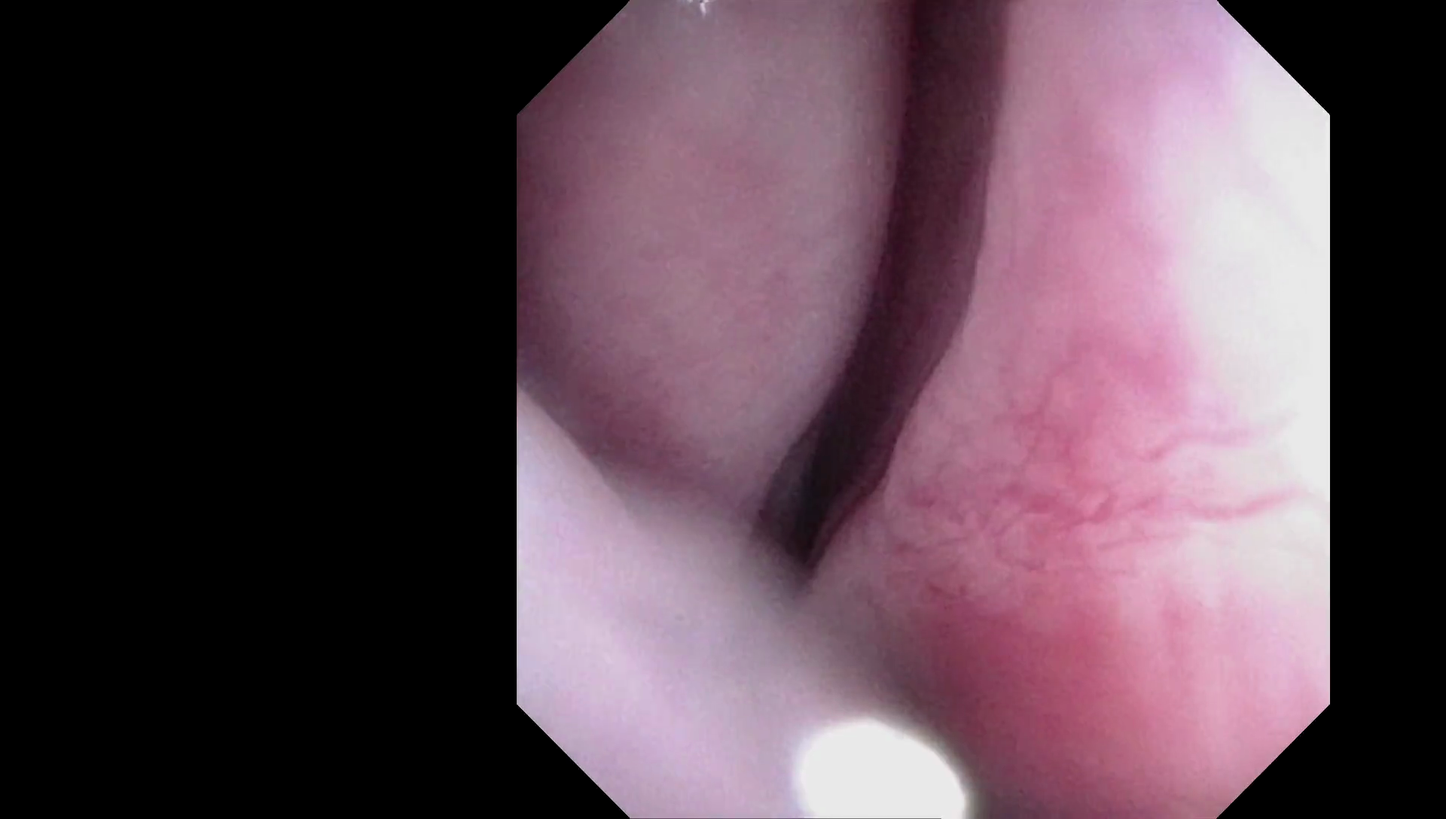close_wall: (986, 120, 1317, 698)
next: (715, 319, 906, 623)
